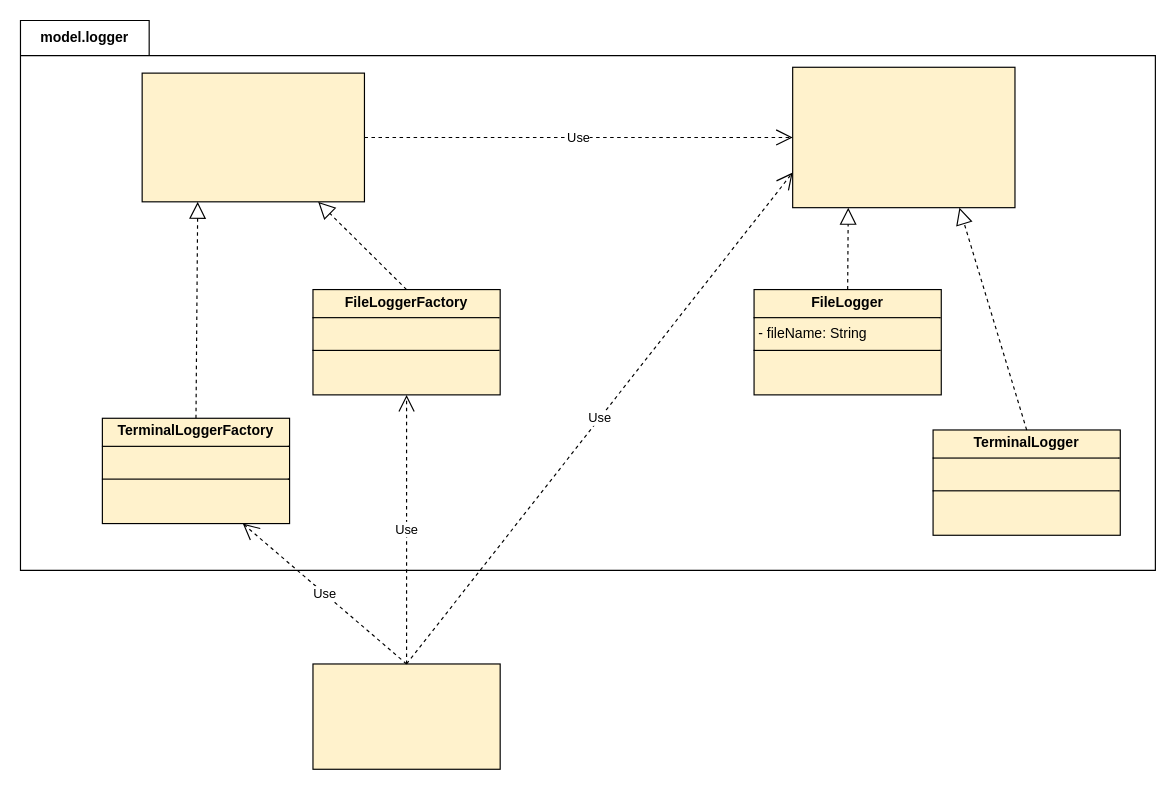
Image size: 1176x790. Some labels were removed from this diagram. The shapes that lost their labels are listed below. From the top down, each one's centre as x and y in pixels, then its label:
[252,137]: <<Interface>> LoggerFactory + factory(): Logger
[903,137]: <<Interface>> Logger + log(message: String)
[406,716]: ClientCode + main()
